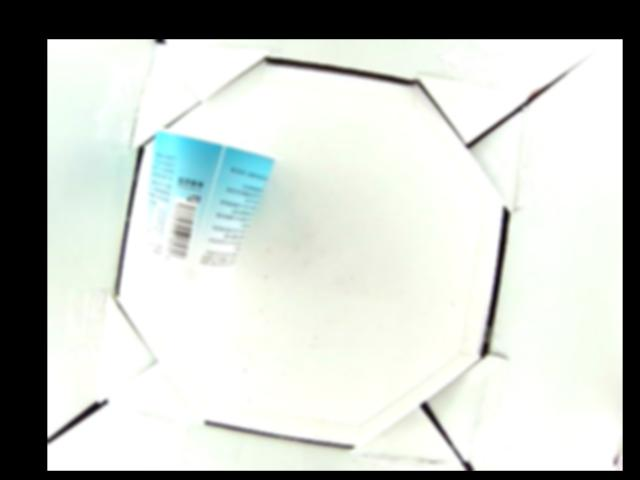Cup: (139, 125, 280, 282)
